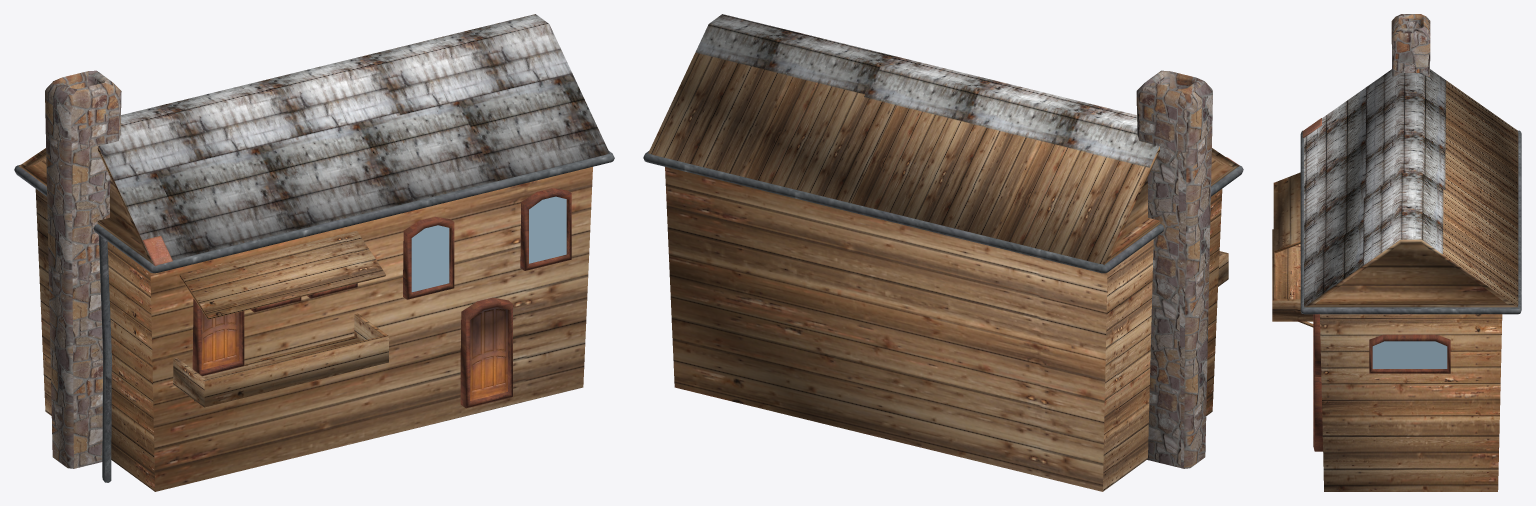
The model's file is House_01.fbx.
3 renders of one model, left to right at view 1: azimuth 30°, elevation 25°; view 2: azimuth 150°, elevation 25°; view 3: azimuth 270°, elevation 25°, orthographic. The views are drawn at different scales.
Parts seen in each view (by area): view 1: House_01, Window_03, Window_04; view 2: House_01; view 3: House_01, Window_05.
Part boxes in pixels (left/top/right/bottom): House_01: left=14, top=14, right=614, bottom=491; Window_03: left=411, top=225, right=449, bottom=292; Window_04: left=529, top=196, right=566, bottom=263; House_01: left=643, top=14, right=1243, bottom=491; House_01: left=1272, top=14, right=1521, bottom=491; Window_05: left=1372, top=341, right=1447, bottom=368.
Bounding box in the file's own units: 419 × 319 × 232.
